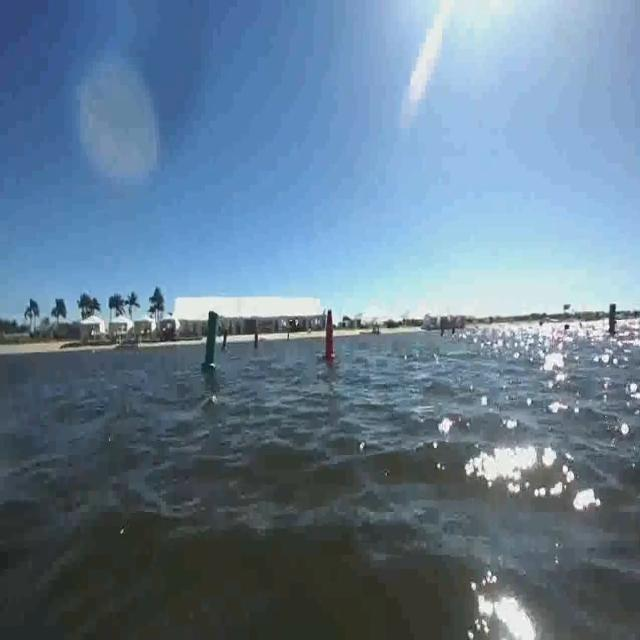green-column-buoy: (202, 309, 222, 372)
red-column-buoy: (322, 311, 336, 364), (221, 327, 229, 349)
